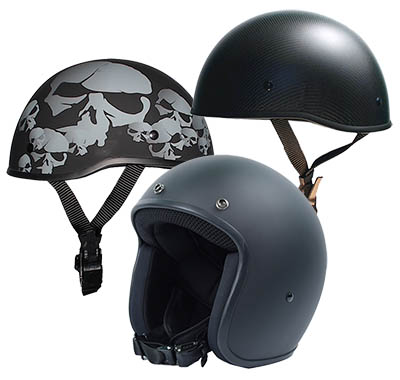with_helmet: (125, 148, 331, 372), (6, 55, 217, 183), (189, 6, 395, 135)
